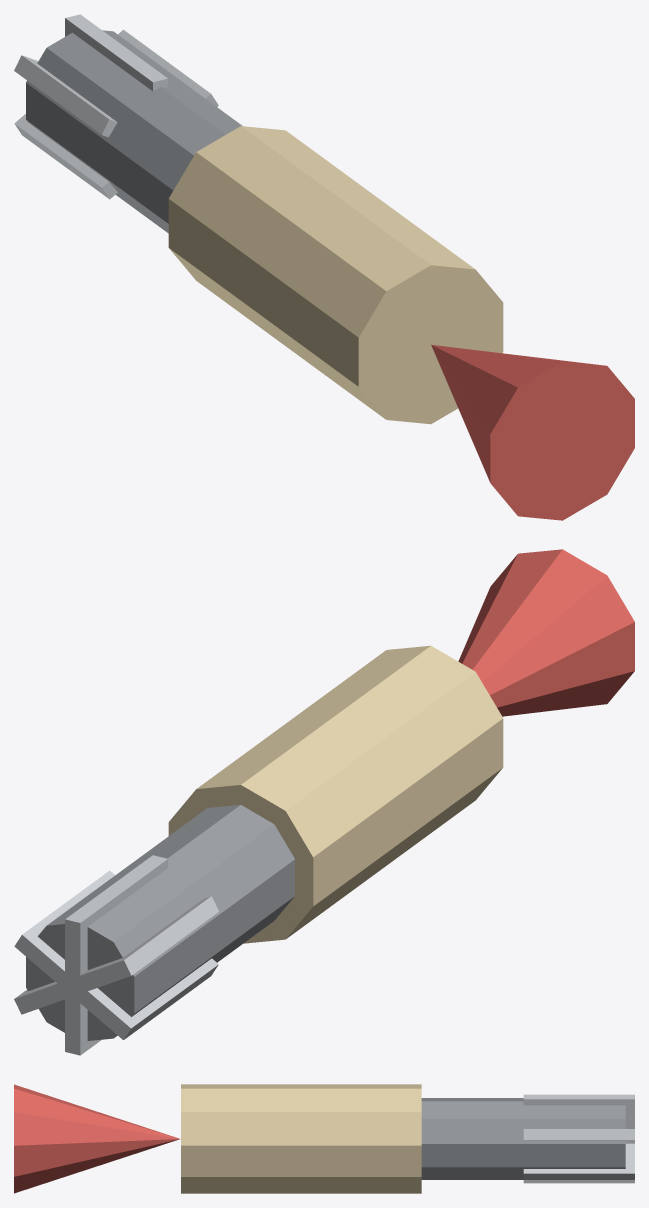
File: rocket.glb
3 views of the same model, one above another, from view 1: azimuth 30°, elevation 25°; view 2: azimuth 150°, elevation 25°; view 3: azimuth 270°, elevation 25° (orthographic). The views are drawn at different scales.
Visible parts, largest first — view 1: rocket; view 2: rocket; view 3: rocket.
Boxes of the visible parts, x1=… form: rocket: x1=14, y1=14, x2=634, y2=520; rocket: x1=14, y1=549, x2=634, y2=1055; rocket: x1=14, y1=1084, x2=634, y2=1193.
Size of the model in its own units: 0.1141 by 0.12 by 0.67.
